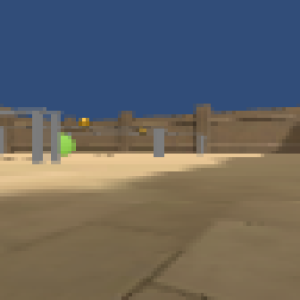goodGoal: (60, 134, 78, 157)
goodGoalMulti: (78, 116, 93, 131), (138, 125, 147, 136)
wall: (32, 111, 44, 164), (51, 111, 61, 163), (152, 126, 164, 158), (197, 135, 205, 153)
